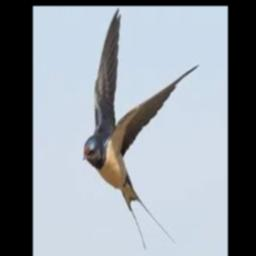Swallow: (83, 6, 200, 249)
